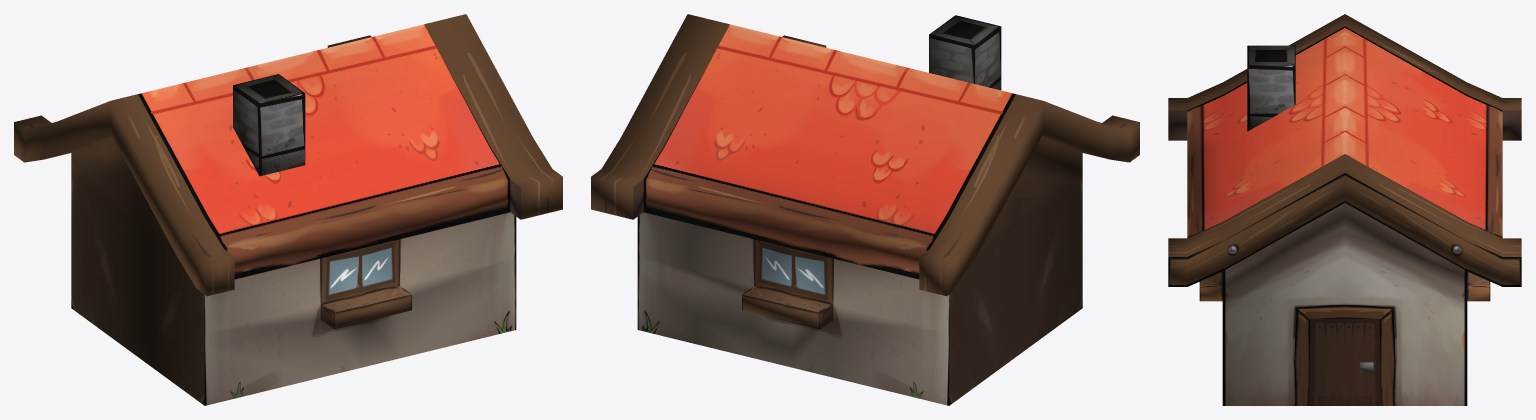
File: FarmHouse.fbx
3 renders of one model, left to right at view 1: azimuth 30°, elevation 25°; view 2: azimuth 150°, elevation 25°; view 3: azimuth 270°, elevation 25°, orthographic. The views are drawn at different scales.
Parts seen in each view (by area): view 1: Cube; view 2: Cube; view 3: Cube.
Part boxes in pixels (<box>): Cube: <box>14,14,562,405</box>; Cube: <box>591,14,1139,405</box>; Cube: <box>1168,14,1521,405</box>.
Bounding box in the file's own units: 3.08 × 2.27 × 2.89.
